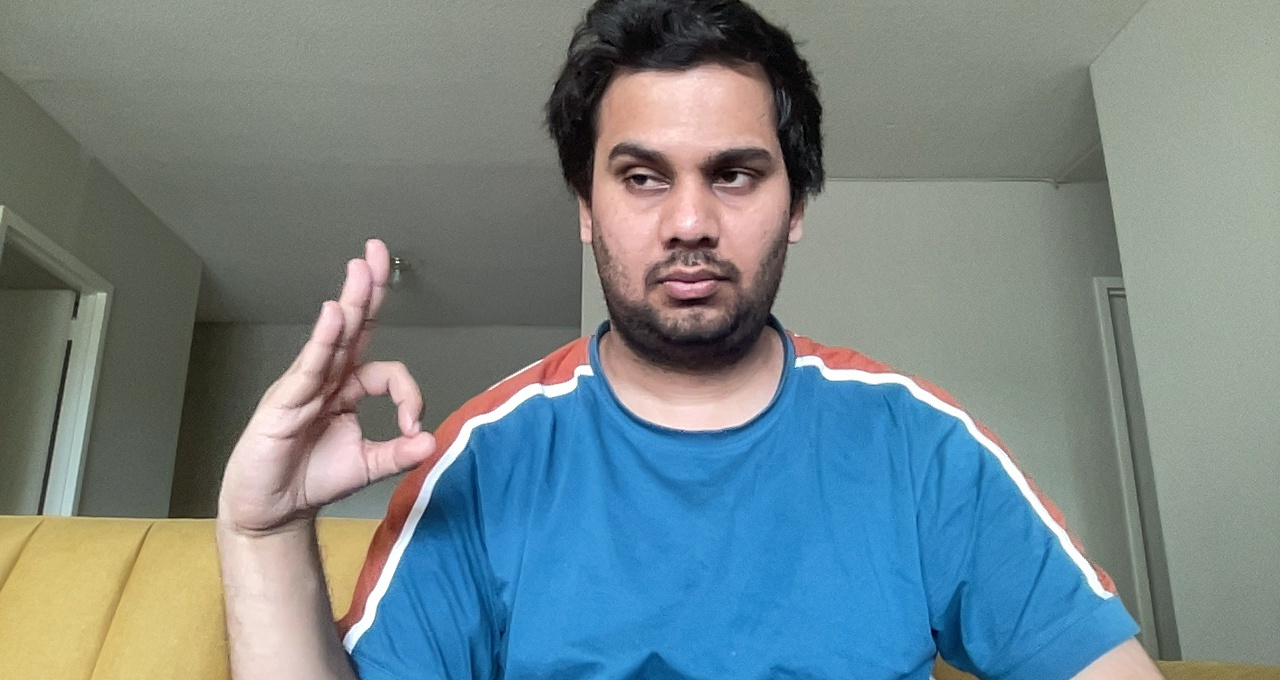ok: (251, 232, 440, 531)
